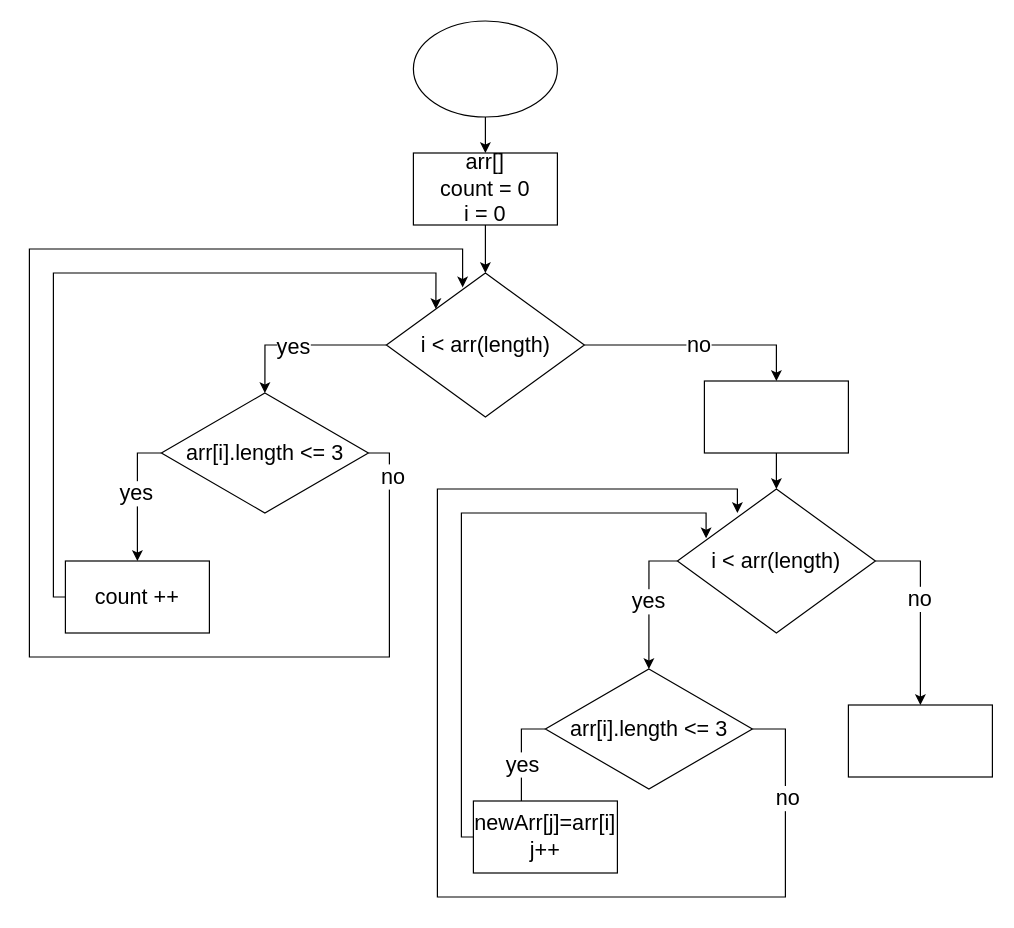
The diagram is 1014 pixels wide and 928 high, and some of its shapes have lost their labels. Here are the shapes that lost their labels. From the top down, the centre of each, then its label:
At (x=484, y=68): "начало".
At (x=775, y=416): "newArr[count] i, j = 0".
At (x=919, y=740): "print newArr[]".
